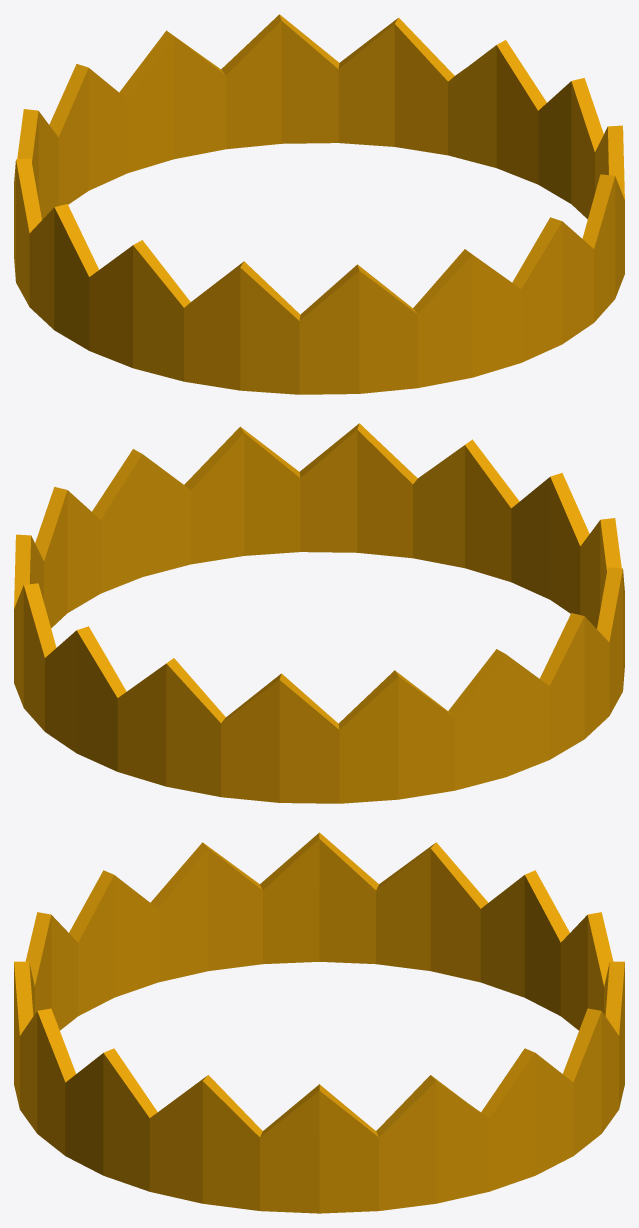
The model's file is CrownPickup.fbx.
3 views of the same model, one above another, from view 1: azimuth 30°, elevation 25°; view 2: azimuth 150°, elevation 25°; view 3: azimuth 270°, elevation 25° (orthographic).
Parts seen in each view (by area): view 1: Circle; view 2: Circle; view 3: Circle.
Boxes of the visible parts, left/top/right/bottom form: Circle: left=14, top=14, right=624, bottom=394; Circle: left=14, top=423, right=624, bottom=803; Circle: left=14, top=832, right=624, bottom=1213.
Bounding box in the file's own units: 22.99 × 5.11 × 22.99.
